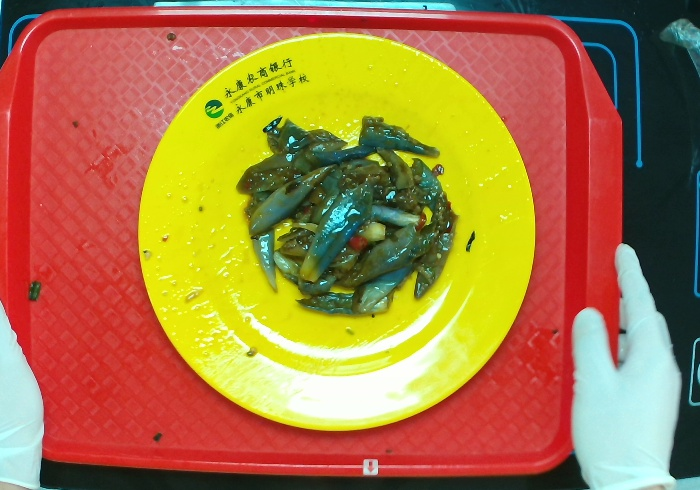YKMZ-Huang_Se_Mian_Pan: (111, 30, 544, 448)
